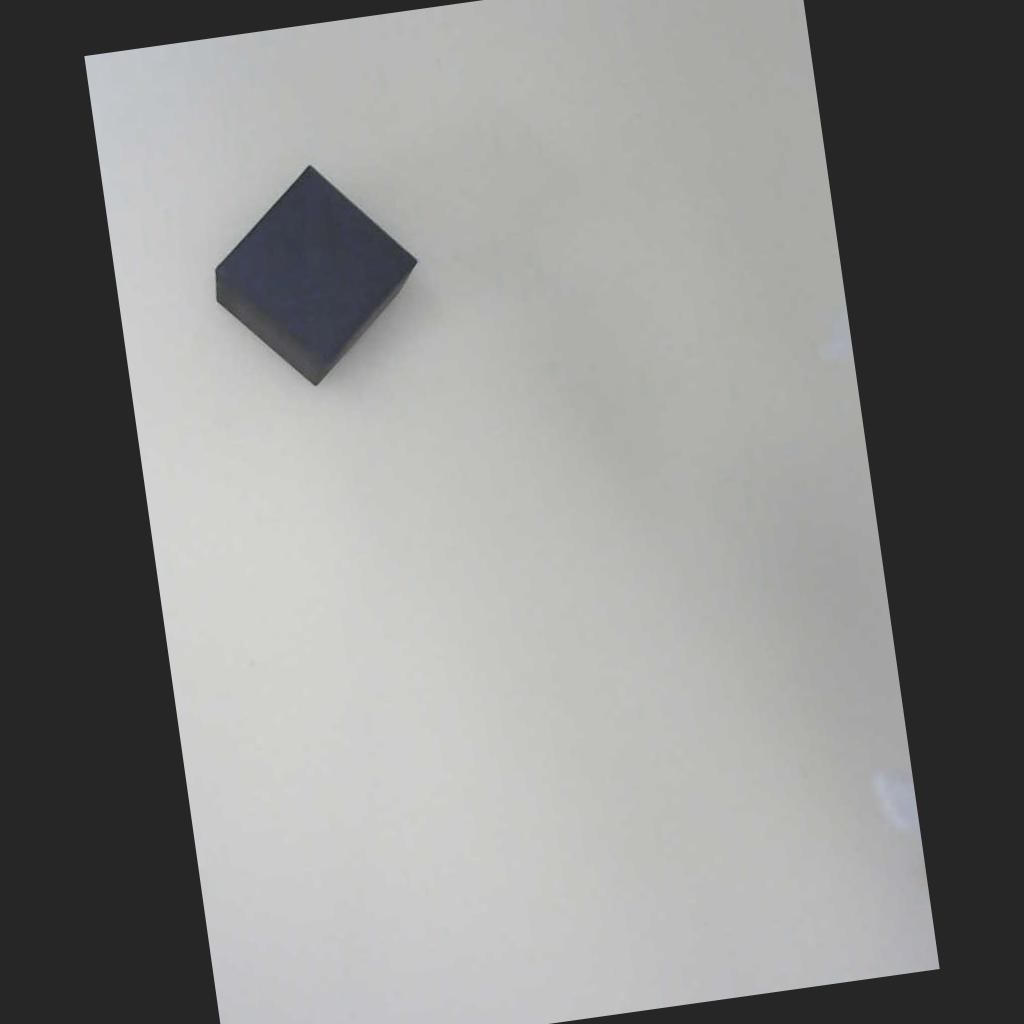square: (174, 135, 449, 412)
